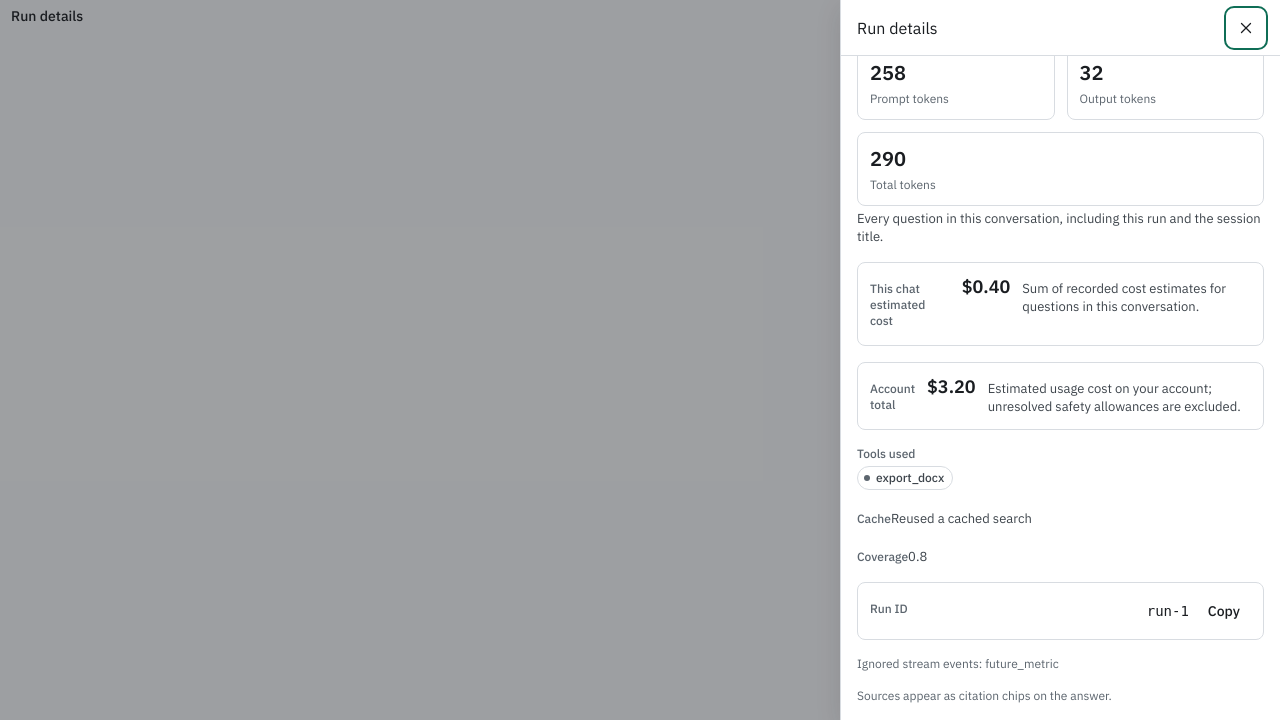
Test: RunDetailsSheet › shows correction, tools, cache, coverage, and ignored events only when real
The width and height of the screenshot is (1280, 720).
(page scrolled)
Expected: the element with test id "advanced-diagnostics" shows "export_docx", [876,470,944,485]
Expected: the element with test id "advanced-diagnostics" shows "Reused a cached search", [891,510,1032,527]
Click the button with aria-label "Copy run-1" at [1224, 611], box [1197,595,1251,627]
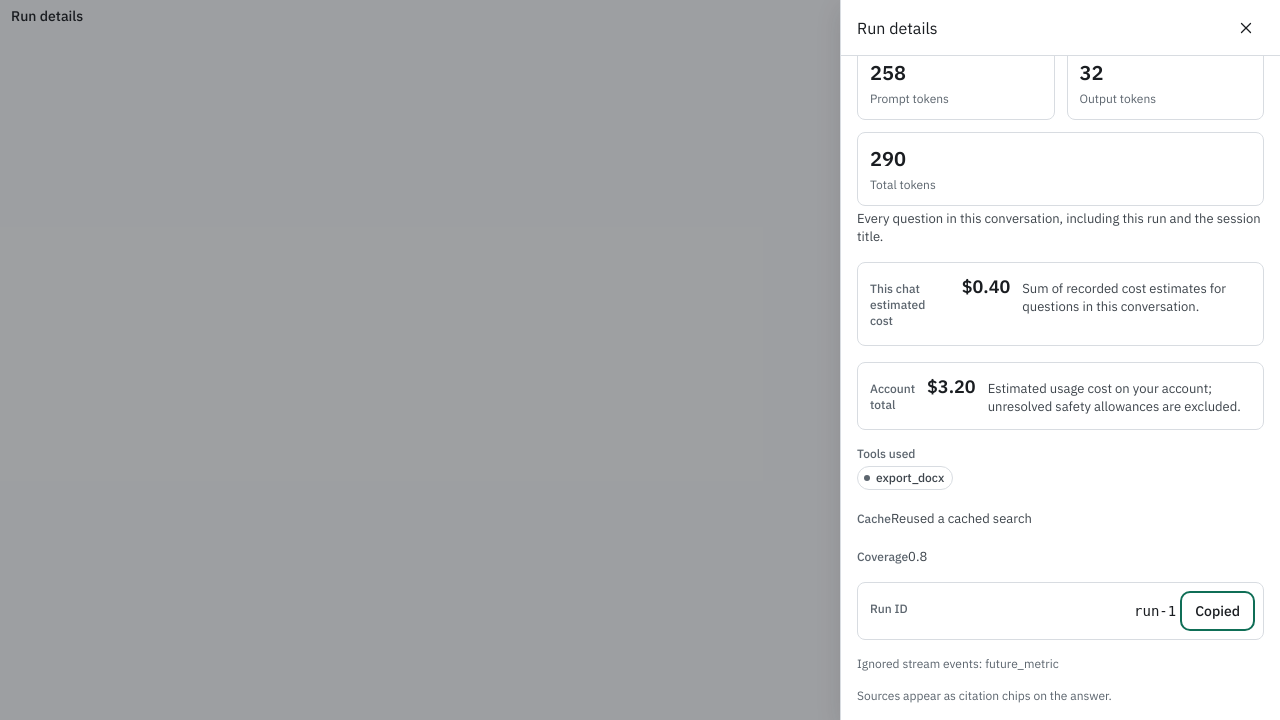
Expected: the button with aria-label "Copy run-1" reads "Copied", [1184,595,1251,627]
